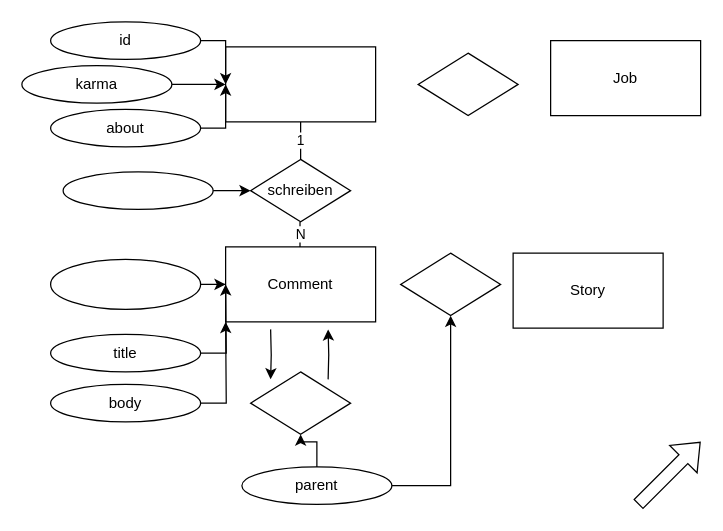
The diagram is 723 pixels wide and 531 high, and some of its shapes have lost their labels. Here are the shapes that lost their labels. From the top down, the centre of each, then its label:
At pixel 300 84: "User".
At pixel 137 190: "created".
At pixel 125 283: "by".
At pixel 300 402: "beziehen sich auf".
